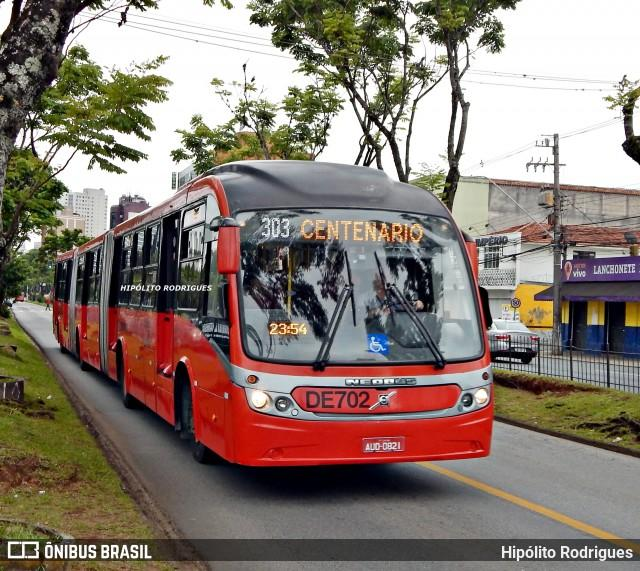CENTENARIO: (295, 214, 426, 248)
